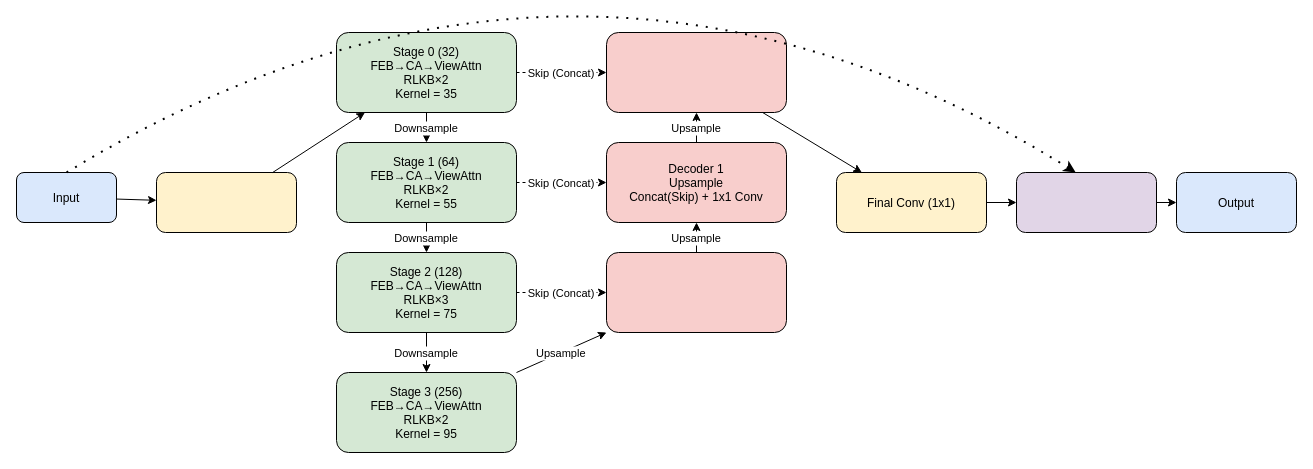
Some shapes in this 1313 by 469 pixel diagram are drawn without their labels. Here are the shapes that lost their labels. From the top down, the centre of each, then its label:
At [696,72]: "Decoder 0 Upsample Concat(Skip) + 1x1 Conv".
At [226,202]: "Patch Embed 3x3 s=2".
At [1086,202]: "+ Residual".
At [696,292]: "Decoder 2 Upsample Concat(Skip) + 1x1 Conv".
